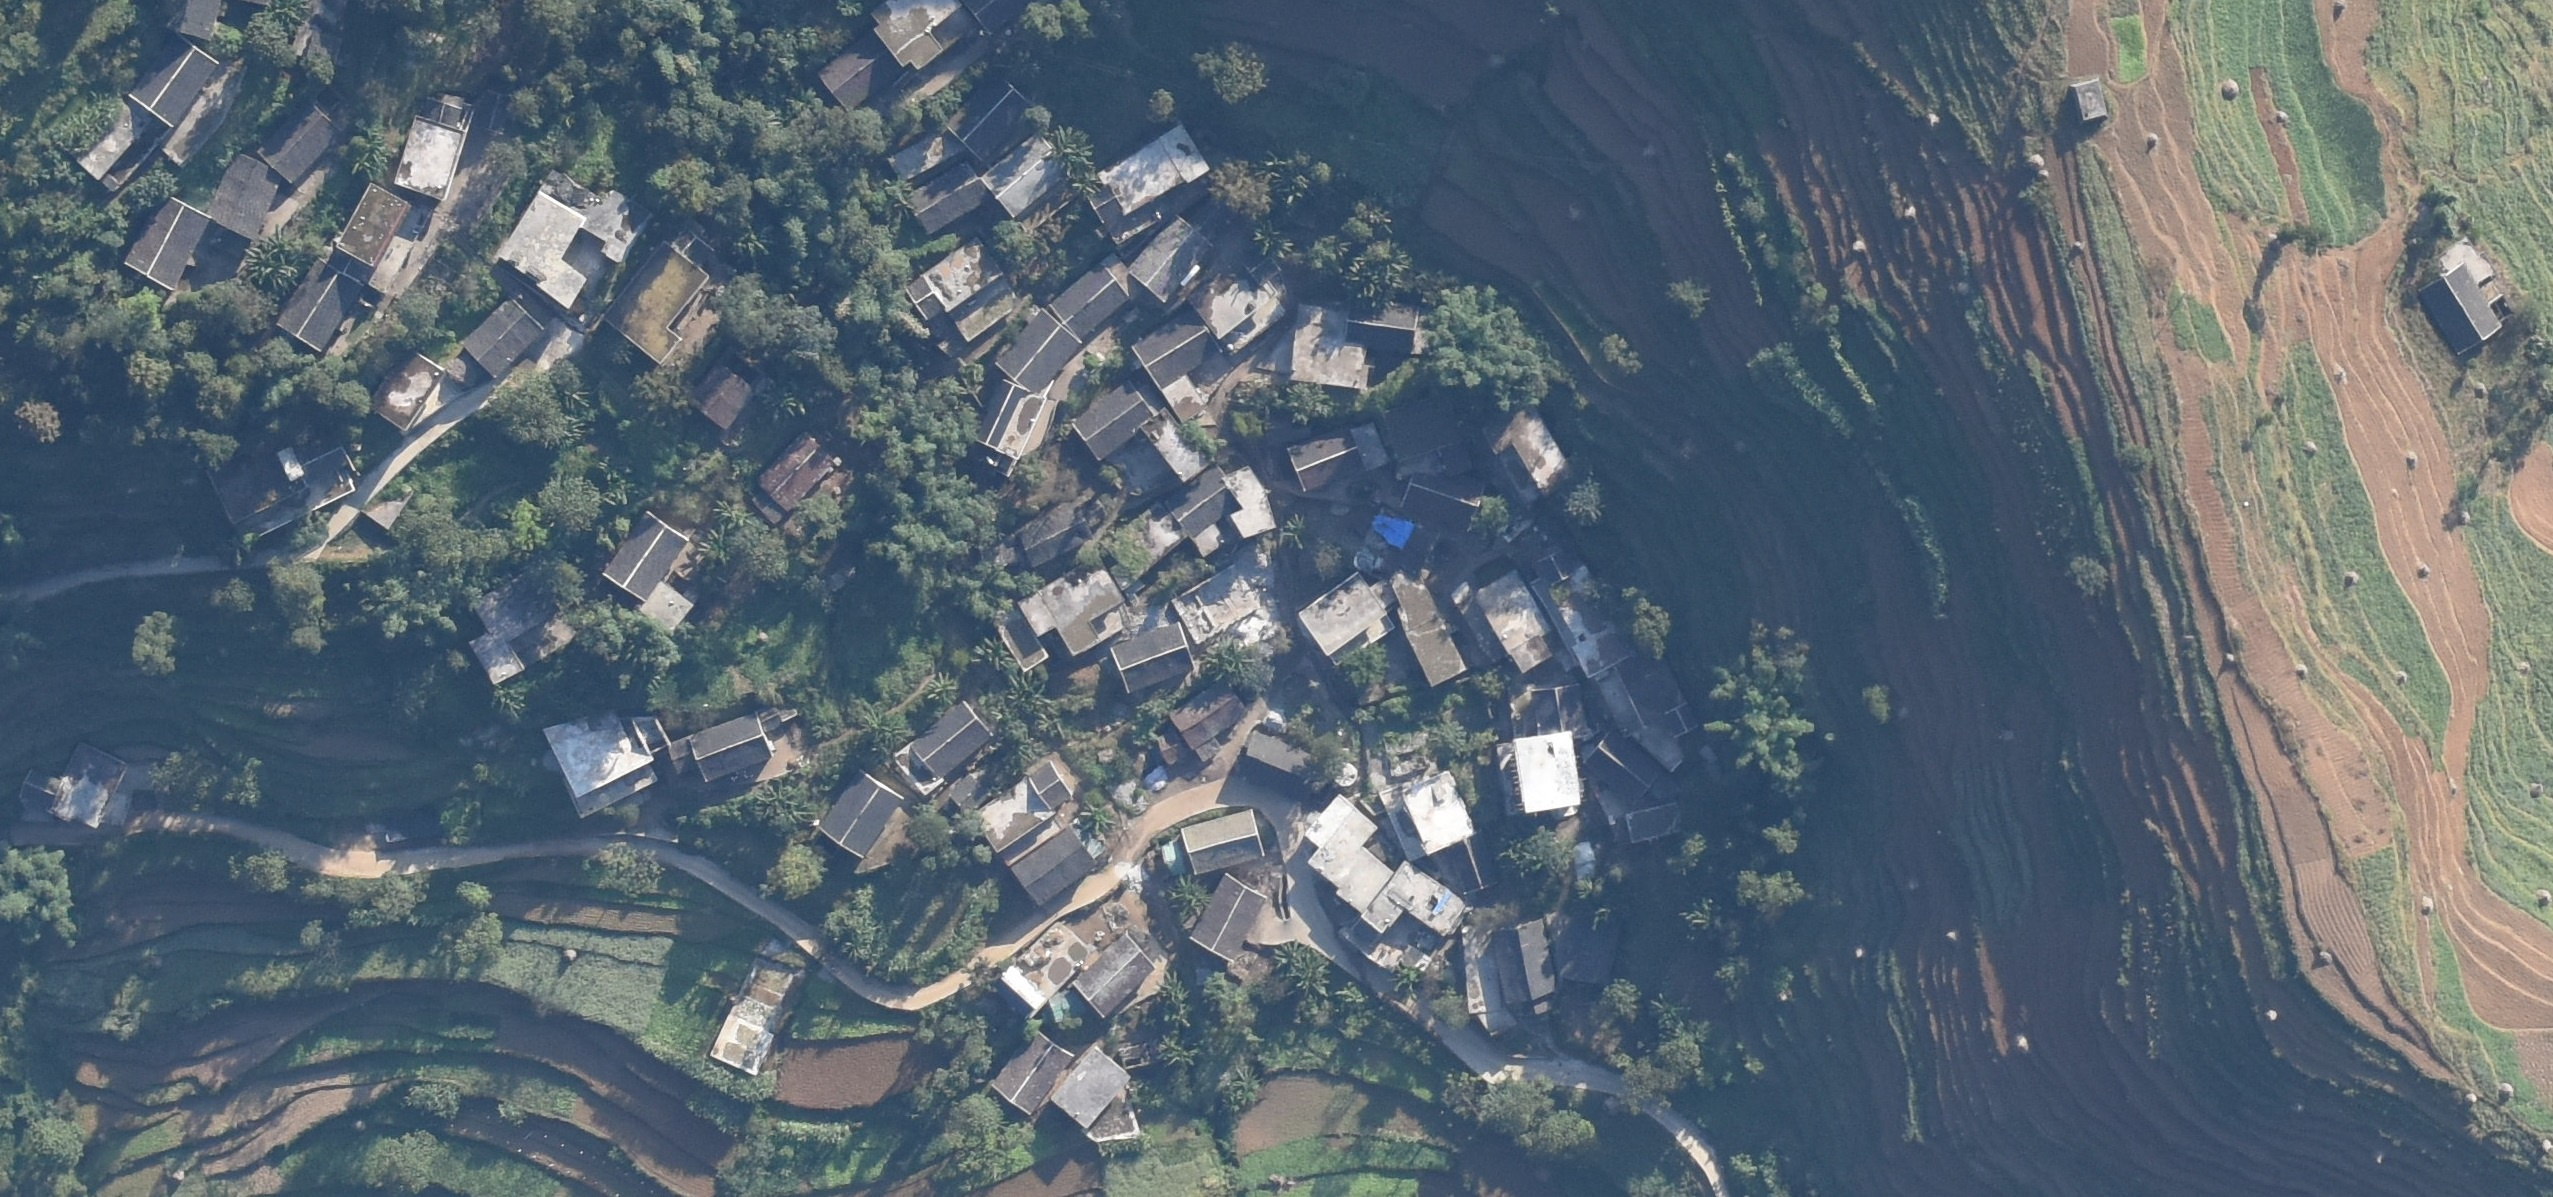building: (501, 180, 640, 306), (214, 448, 360, 544), (540, 709, 667, 816), (992, 567, 1125, 669), (1289, 293, 1426, 390), (603, 246, 708, 366), (1530, 562, 1632, 680), (469, 569, 575, 682), (1087, 129, 1208, 224), (1132, 307, 1225, 420), (1461, 924, 1556, 1032), (906, 241, 1014, 334), (1297, 569, 1397, 666), (1306, 797, 1391, 911), (711, 963, 791, 1079), (18, 746, 129, 829), (893, 703, 993, 793), (2425, 237, 2501, 355), (980, 763, 1074, 853), (394, 94, 472, 201), (1395, 571, 1466, 687), (1476, 569, 1556, 671), (1377, 774, 1471, 860), (1170, 468, 1275, 544), (815, 771, 902, 860), (603, 511, 689, 601), (125, 197, 208, 290), (1284, 426, 1389, 498), (1499, 731, 1585, 817), (132, 43, 221, 126), (279, 257, 355, 353), (671, 715, 775, 785), (1187, 870, 1264, 964), (1131, 216, 1215, 302), (1003, 920, 1084, 1008), (332, 184, 407, 278), (462, 298, 545, 382), (1366, 866, 1462, 938), (1049, 1049, 1132, 1131), (1494, 406, 1567, 499), (1159, 684, 1241, 766), (997, 309, 1077, 393), (984, 139, 1069, 218), (1191, 267, 1278, 344), (1076, 937, 1154, 1022), (941, 79, 1030, 153), (367, 349, 444, 434), (993, 1031, 1070, 1116), (1093, 513, 1184, 584), (1009, 829, 1097, 902), (75, 106, 154, 187), (906, 163, 991, 236), (1049, 264, 1124, 345), (872, 1, 963, 67), (1077, 383, 1154, 461), (209, 151, 277, 239), (1167, 571, 1252, 641), (1182, 806, 1268, 875), (977, 376, 1045, 463), (1605, 674, 1694, 739), (1113, 624, 1198, 691), (261, 102, 333, 179), (761, 431, 830, 511), (817, 43, 899, 107), (1399, 471, 1484, 531), (1013, 505, 1092, 567), (1143, 409, 1211, 480), (1584, 732, 1656, 795), (692, 363, 752, 432), (891, 132, 956, 187), (1245, 736, 1316, 783), (1533, 686, 1586, 738), (640, 582, 694, 631), (1621, 800, 1684, 839), (169, 1, 218, 37), (2073, 77, 2106, 119), (948, 778, 984, 809)
prefabricated-house: (1370, 513, 1413, 551)
well: (1332, 757, 1356, 786)
